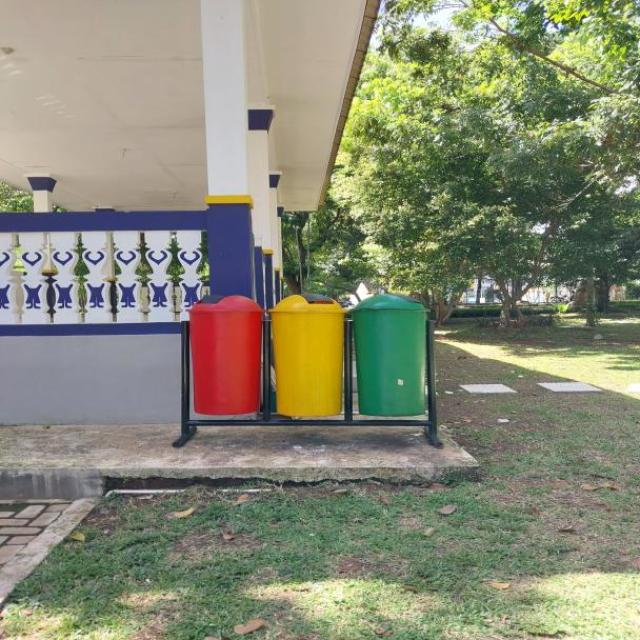dustbin ahead at: (185, 290, 435, 425)
